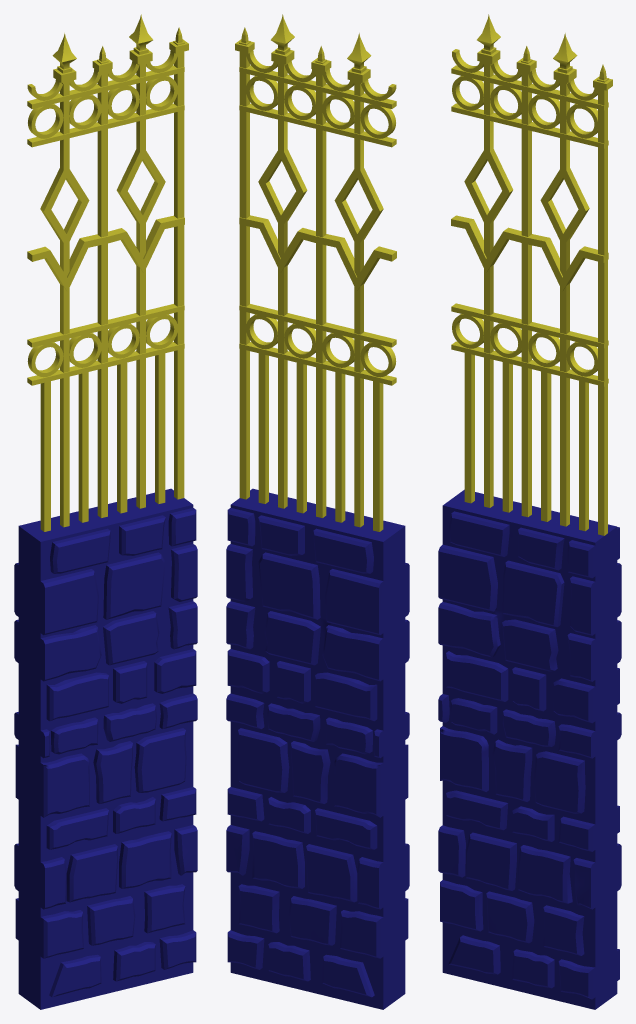
File: SM_fence.fbx
3 renders of one model, left to right at view 1: azimuth 30°, elevation 25°; view 2: azimuth 150°, elevation 25°; view 3: azimuth 330°, elevation 25°, orthographic.
Visible parts, largest first — view 1: Plane002, Line005; view 2: Plane002, Line005; view 3: Plane002, Line005.
Part boxes in pixels (x1,y1,x2,y2): Plane002: (14,488,197,1009); Line005: (27,14,188,531); Plane002: (226,488,409,1009); Line005: (235,14,396,531); Plane002: (438,489,621,1009); Line005: (451,14,612,535).
Bounding box in the file's own units: 205 × 1202 × 71.6.
